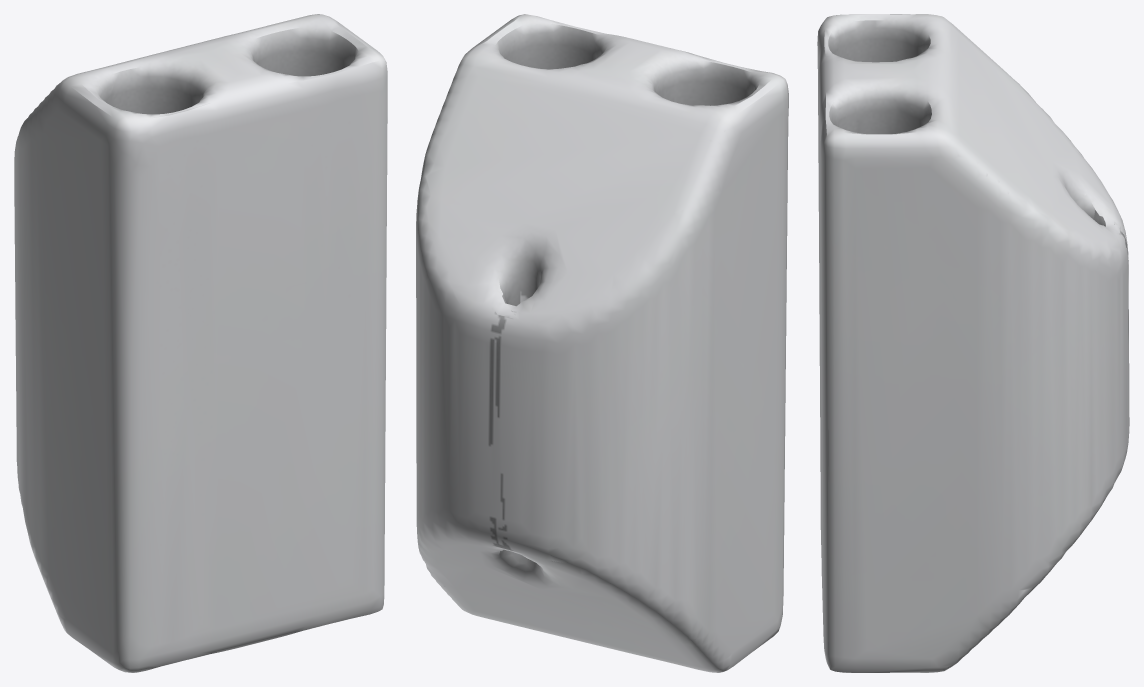
The model's file is left_finger1_middle.glb.
The picture shows the model from 3 angles, left to right: view 1: azimuth 30°, elevation 25°; view 2: azimuth 150°, elevation 25°; view 3: azimuth 270°, elevation 25°; orthographic projection. The views are drawn at different scales.
Visible parts, largest first — view 1: left_finger1_middle; view 2: left_finger1_middle; view 3: left_finger1_middle.
Part boxes in pixels (<box>): left_finger1_middle: <box>14,14,387,672</box>; left_finger1_middle: <box>416,14,788,672</box>; left_finger1_middle: <box>817,14,1129,672</box>.
Size of the model in its own units: 0.0103 by 0.0201 by 0.0104.
Materials: 1 (1 with a texture image).
